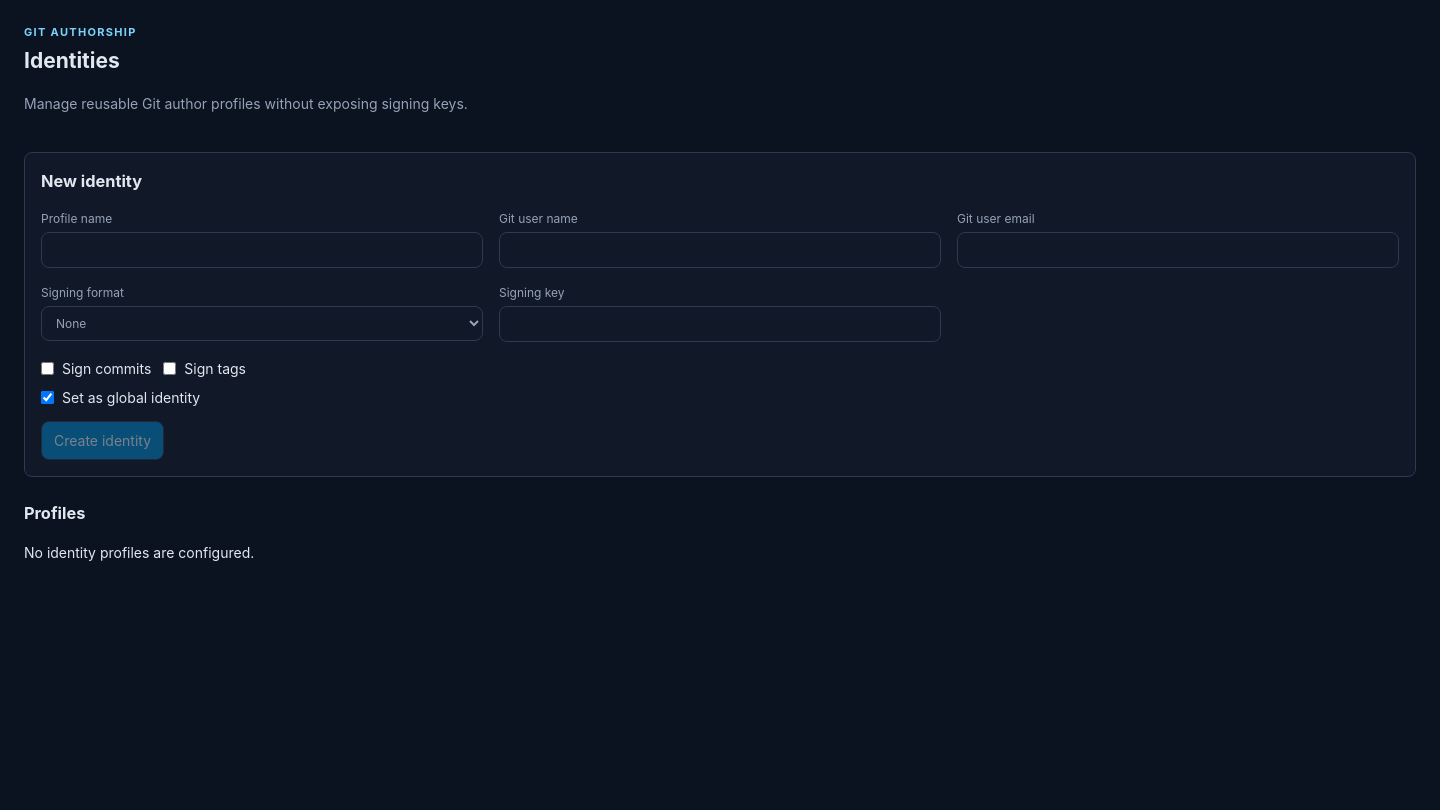
Test: IdentitiesView › submits a pending identity creation only once
The image size is (1440, 810).
Expected: the heading "Identities" is shown, [24,48,120,72]
Step 1. Type "Work profile" into the field labelled "Profile name" → x=262, y=250, box [41,232,483,268]
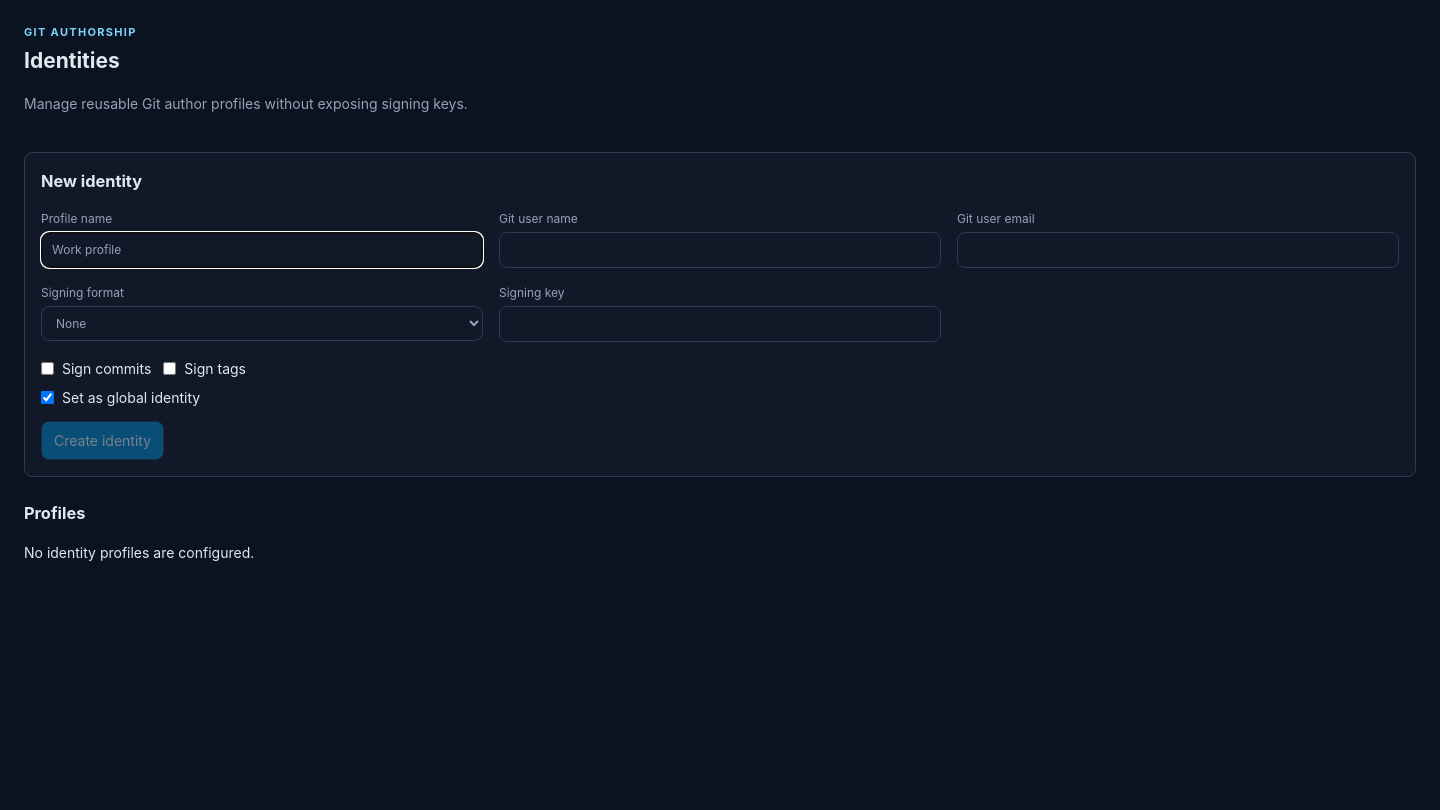
Step 2. Type "Alice Example" into the field labelled "Git user name" → x=720, y=250, box [499,232,941,268]
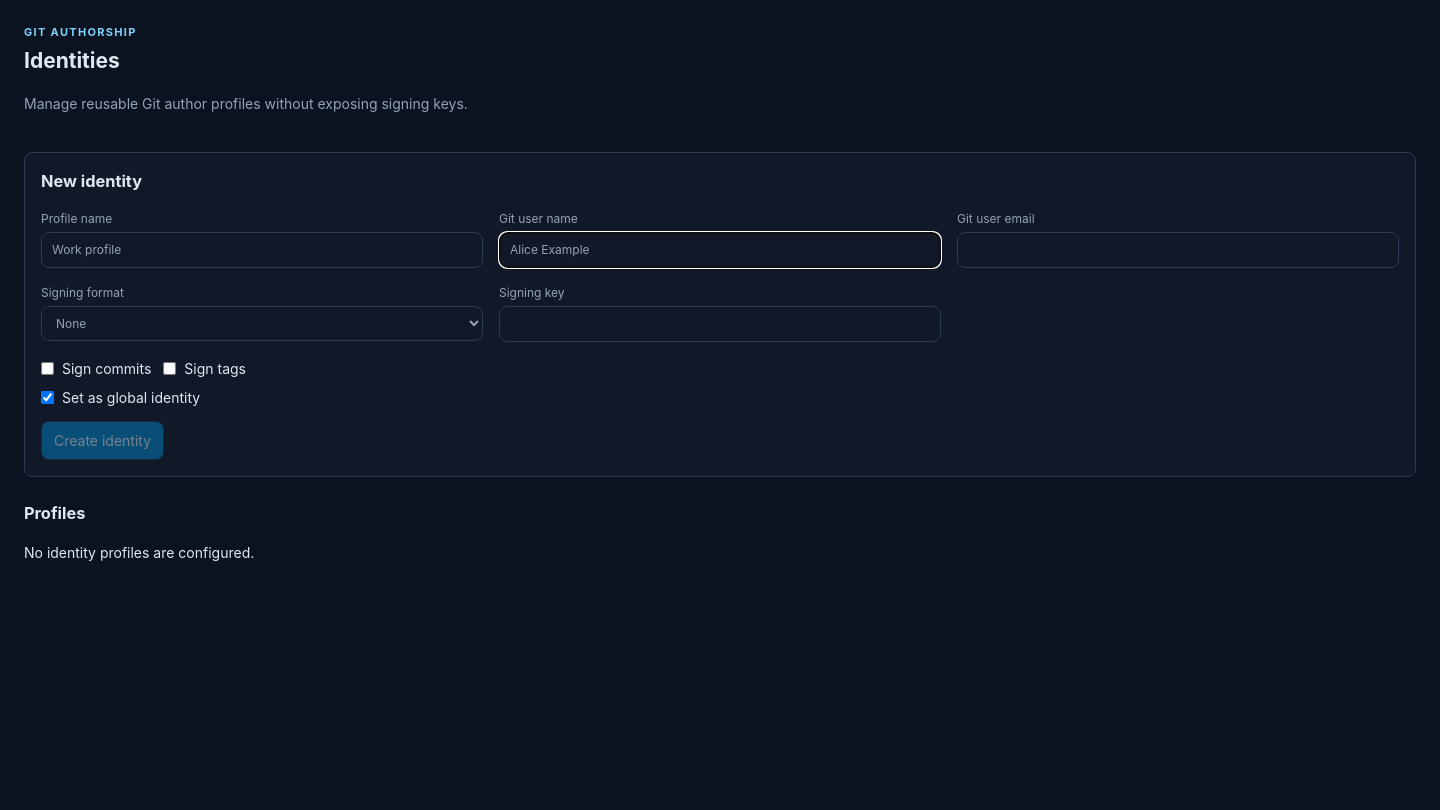
Step 3. Type "alice@example.com" into the field labelled "Git user email" → x=1178, y=250, box [957,232,1399,268]
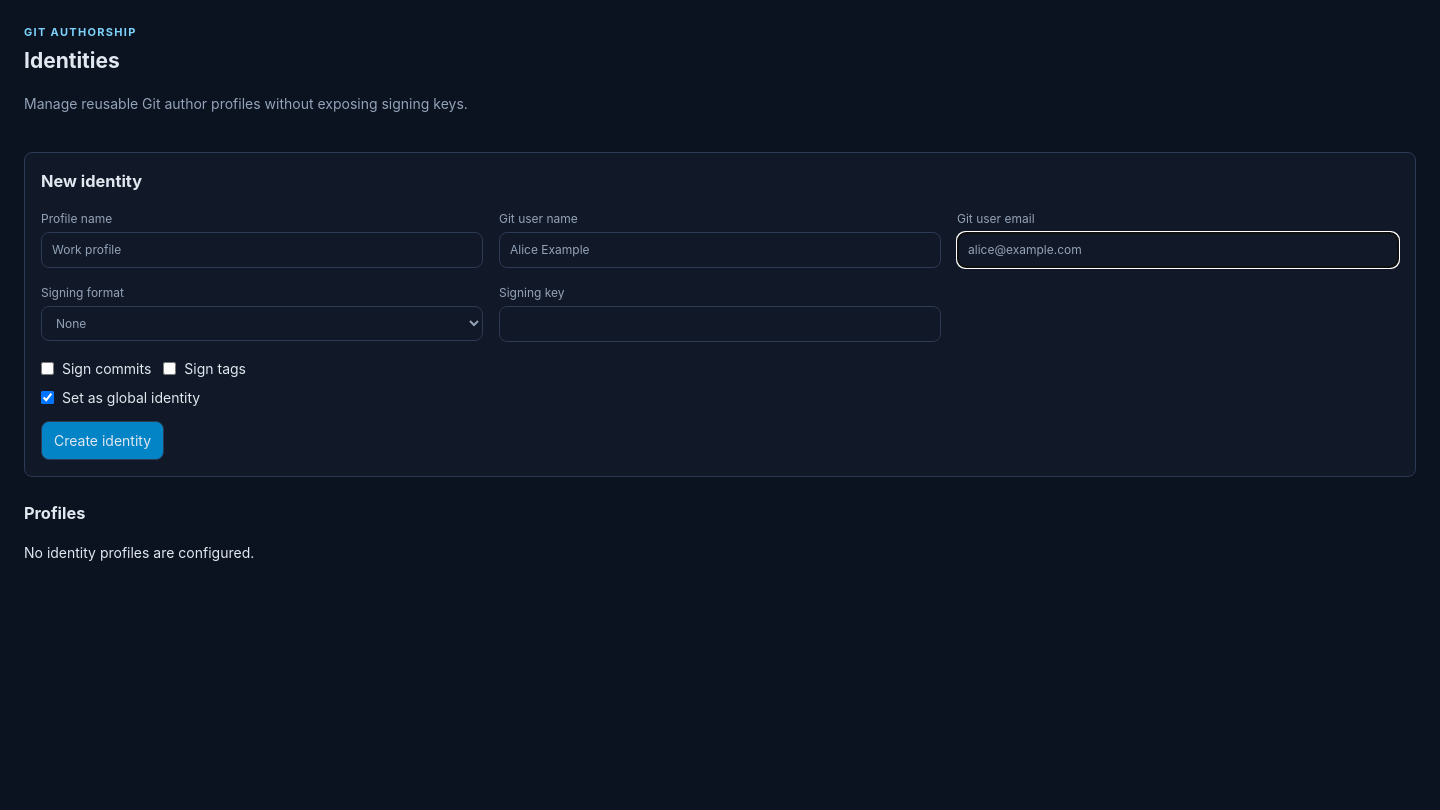
Step 4. Double-click the button "Create identity" → x=103, y=441, box [41,421,164,460]
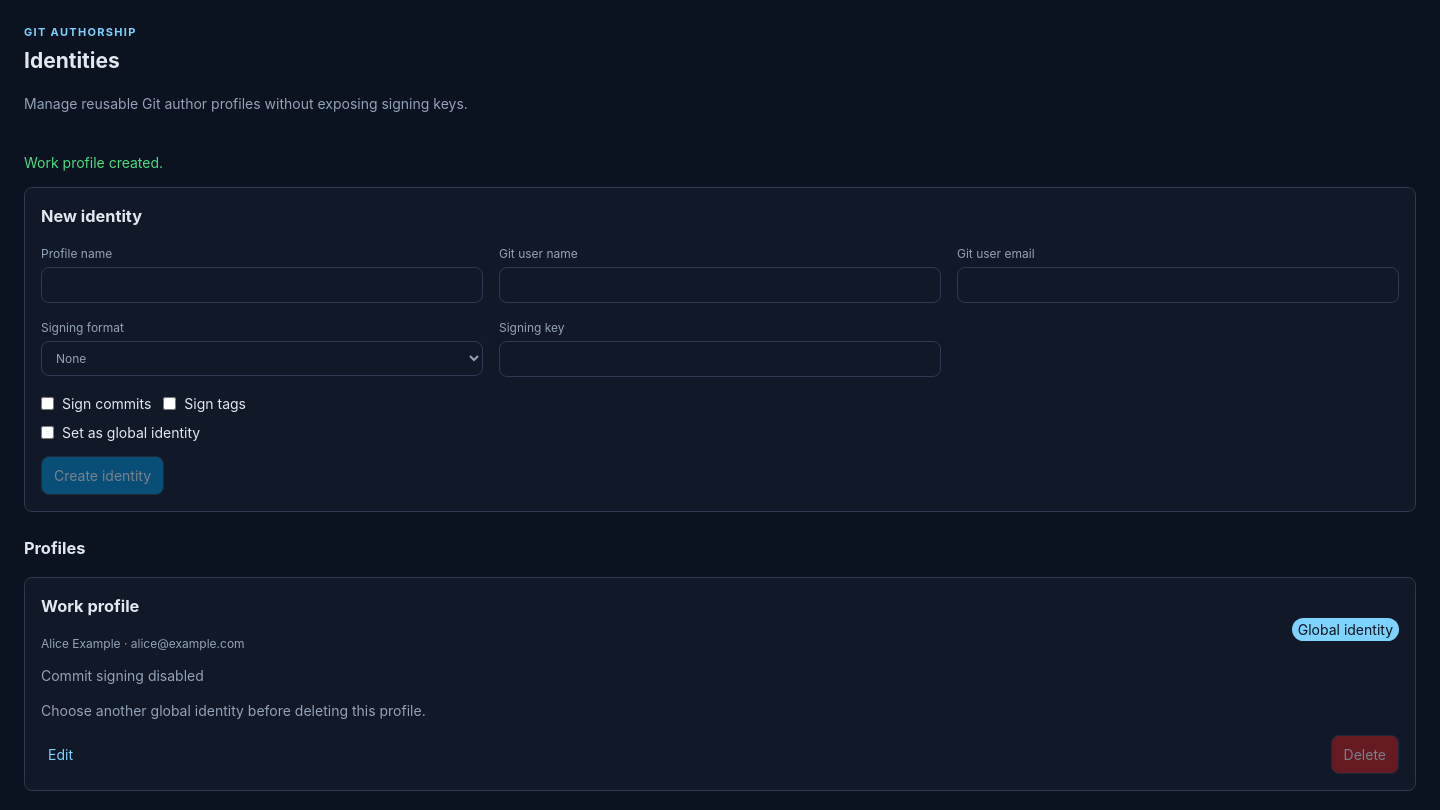
Now the button named "Creating identity…" is disabled, box [41,456,164,495]
Now the text "Global identity" is shown, box [1292,618,1399,641]
